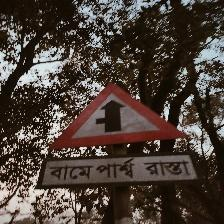Side-road-left: (39, 82, 197, 190)
